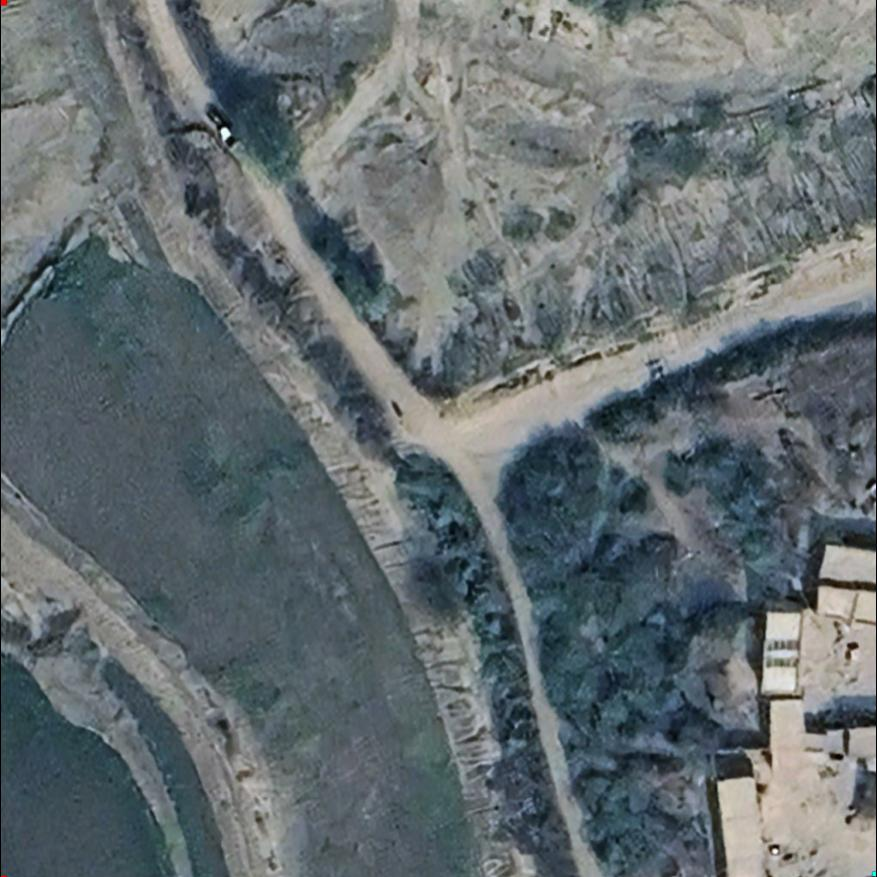Solarpanel: (763, 655, 803, 671), (764, 638, 803, 654)
